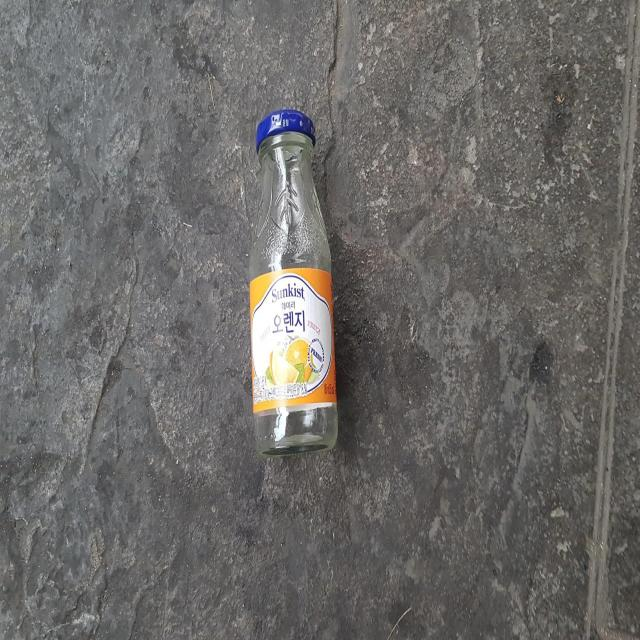glass: (250, 109, 337, 456)
